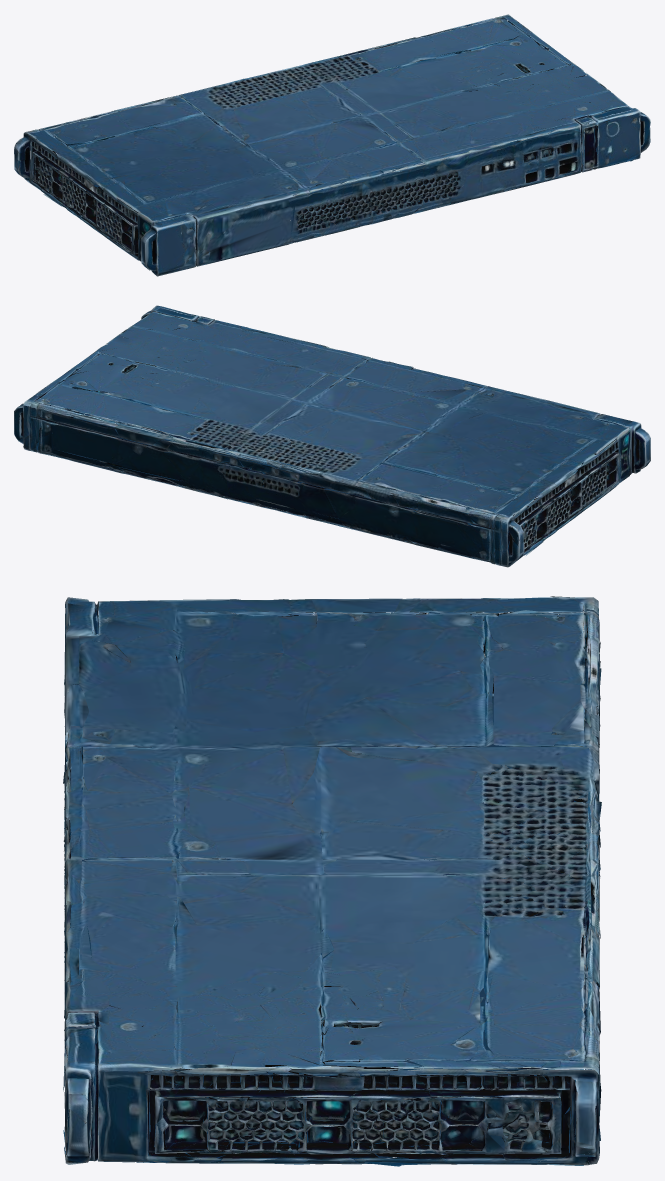
The model's file is lab-rack-server.glb.
3 views of the same model, one above another, from view 1: azimuth 30°, elevation 25°; view 2: azimuth 150°, elevation 25°; view 3: azimuth 270°, elevation 25° (orthographic). The views are drawn at different scales.
Parts seen in each view (by area): view 1: geometry_0; view 2: geometry_0; view 3: geometry_0.
Boxes of the visible parts, bbox=[...] form: geometry_0: bbox=[14, 14, 650, 276]; geometry_0: bbox=[14, 305, 650, 567]; geometry_0: bbox=[63, 596, 601, 1166].
Bounding box in the file's own units: 1.9 × 0.184 × 0.8772.
Materials: 1 (1 with a texture image).
